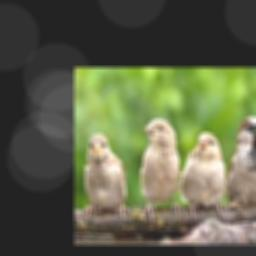Sparrow: (140, 118, 181, 222), (83, 133, 128, 221), (180, 131, 226, 214), (226, 115, 256, 214)
